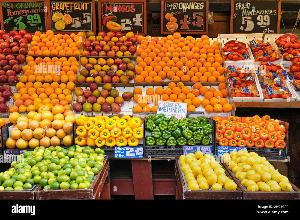bell_pepper: (73, 113, 142, 147), (215, 117, 283, 151), (143, 116, 213, 148), (241, 128, 252, 140), (133, 128, 144, 139), (201, 136, 211, 146)
lemon: (222, 148, 296, 192), (178, 151, 238, 193), (249, 174, 262, 183), (188, 183, 200, 191)
lime: (1, 146, 102, 202), (91, 168, 99, 175)
mango: (74, 84, 132, 114), (79, 55, 139, 83), (82, 28, 136, 56), (122, 92, 133, 101), (120, 75, 129, 83), (107, 31, 115, 38)
orange: (136, 28, 226, 82), (135, 82, 231, 114), (8, 110, 74, 148), (11, 82, 76, 113), (22, 54, 80, 84), (280, 30, 300, 105), (31, 30, 83, 56), (227, 64, 261, 98), (260, 59, 286, 101), (222, 32, 252, 62), (252, 33, 278, 58), (51, 120, 63, 130), (66, 81, 75, 91), (135, 75, 144, 83), (134, 87, 143, 94), (68, 56, 76, 63), (291, 57, 300, 63), (45, 30, 53, 35), (233, 55, 239, 61), (239, 73, 245, 79), (266, 65, 272, 71), (254, 52, 258, 56)
pomegranate: (0, 53, 24, 89), (1, 29, 32, 55), (1, 84, 16, 112), (2, 90, 12, 100), (9, 59, 18, 67), (18, 29, 27, 36)
